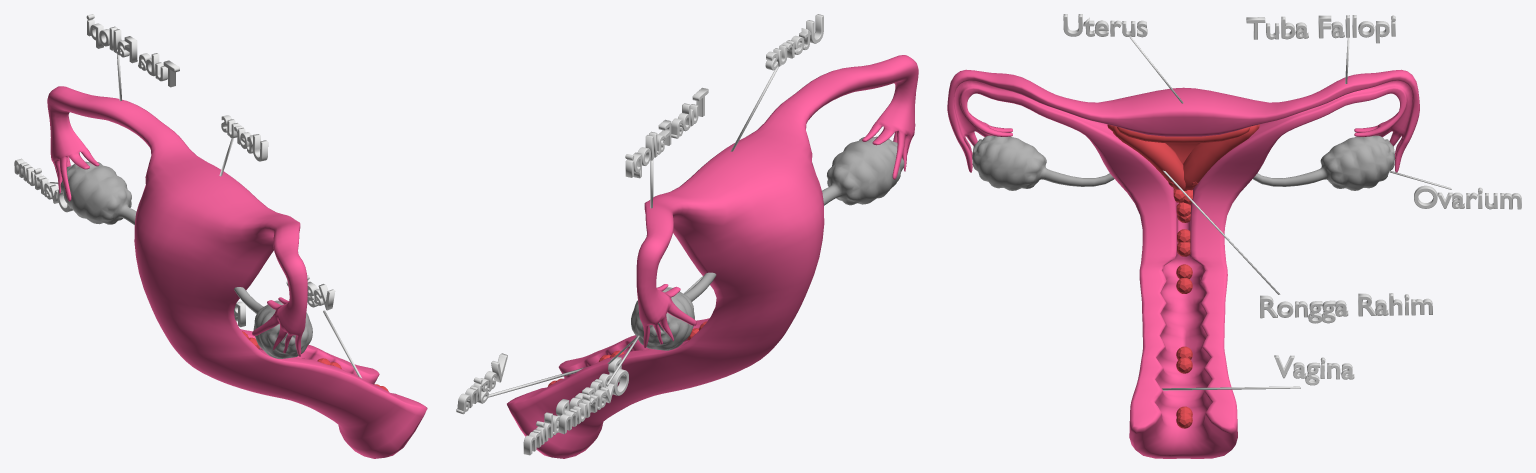
File: fase4.fbx
The picture shows the model from 3 angles, left to right: view 1: azimuth 30°, elevation 25°; view 2: azimuth 150°, elevation 25°; view 3: azimuth 270°, elevation 25°; orthographic projection. The views are drawn at different scales.
Parts seen in each view (by area): view 1: Cube.001, Sphere, tuba fallopi, ovarium, uterus, vagina; view 2: Cube.001, Sphere, tuba fallopi, dinding rahim, ovarium, uterus, vagina; view 3: Cube.001, Sphere, dinding rahim, tuba fallopi, Cube.004, Cube.002, ovarium, vagina, uterus, Cube.005.
Boxes of the visible parts, <box> form: Cube.001: <box>47,86,427,458</box>; Sphere: <box>60,161,312,358</box>; tuba fallopi: <box>86,14,179,87</box>; ovarium: <box>14,158,73,212</box>; uterus: <box>221,115,268,161</box>; vagina: <box>286,275,335,310</box>; Cube.001: <box>507,55,918,458</box>; Sphere: <box>631,136,904,350</box>; tuba fallopi: <box>625,87,708,178</box>; dinding rahim: <box>523,357,621,455</box>; ovarium: <box>558,368,628,434</box>; uterus: <box>765,14,823,70</box>; vagina: <box>456,353,507,414</box>; Cube.001: <box>947,69,1419,458</box>; Sphere: <box>972,135,1394,190</box>; dinding rahim: <box>1260,293,1432,323</box>; tuba fallopi: <box>1246,15,1395,43</box>; Cube.004: <box>1183,125,1258,190</box>; Cube.002: <box>1113,126,1186,190</box>; ovarium: <box>1414,185,1521,209</box>; vagina: <box>1274,355,1354,385</box>; uterus: <box>1063,14,1147,37</box>; Cube.005: <box>1117,126,1250,143</box>.
Bounding box in the file's own units: 74.77 × 108 × 152.
10 materials, 3 textured.
